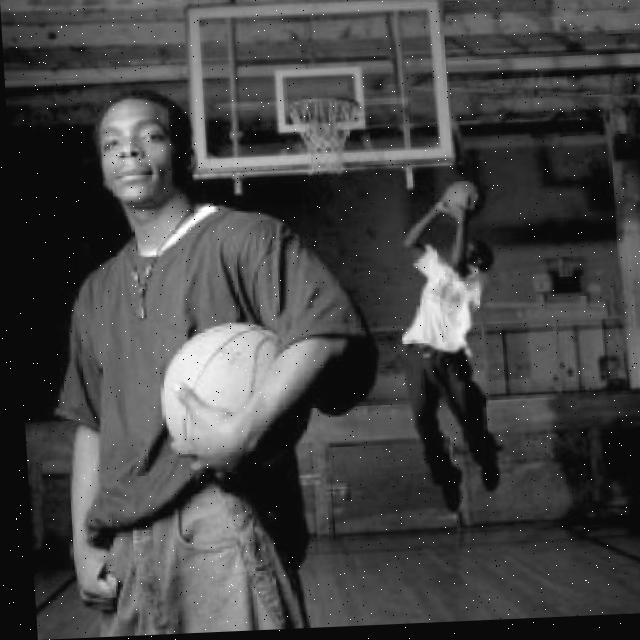basketball: (150, 314, 313, 468), (438, 173, 488, 219)
hoop: (283, 90, 367, 178)
